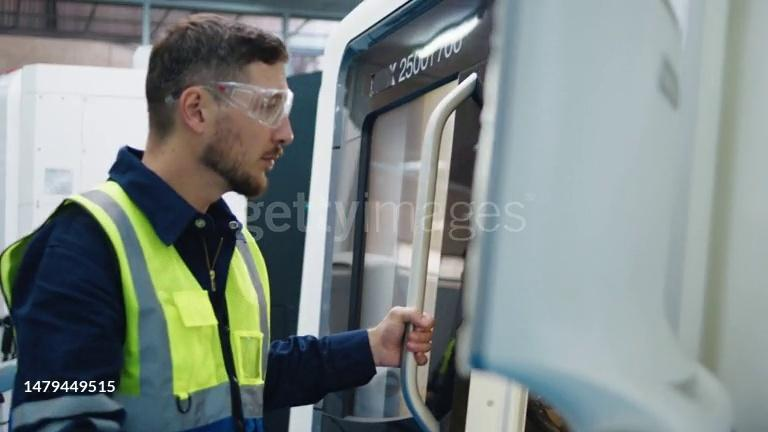person: (0, 9, 440, 432)
